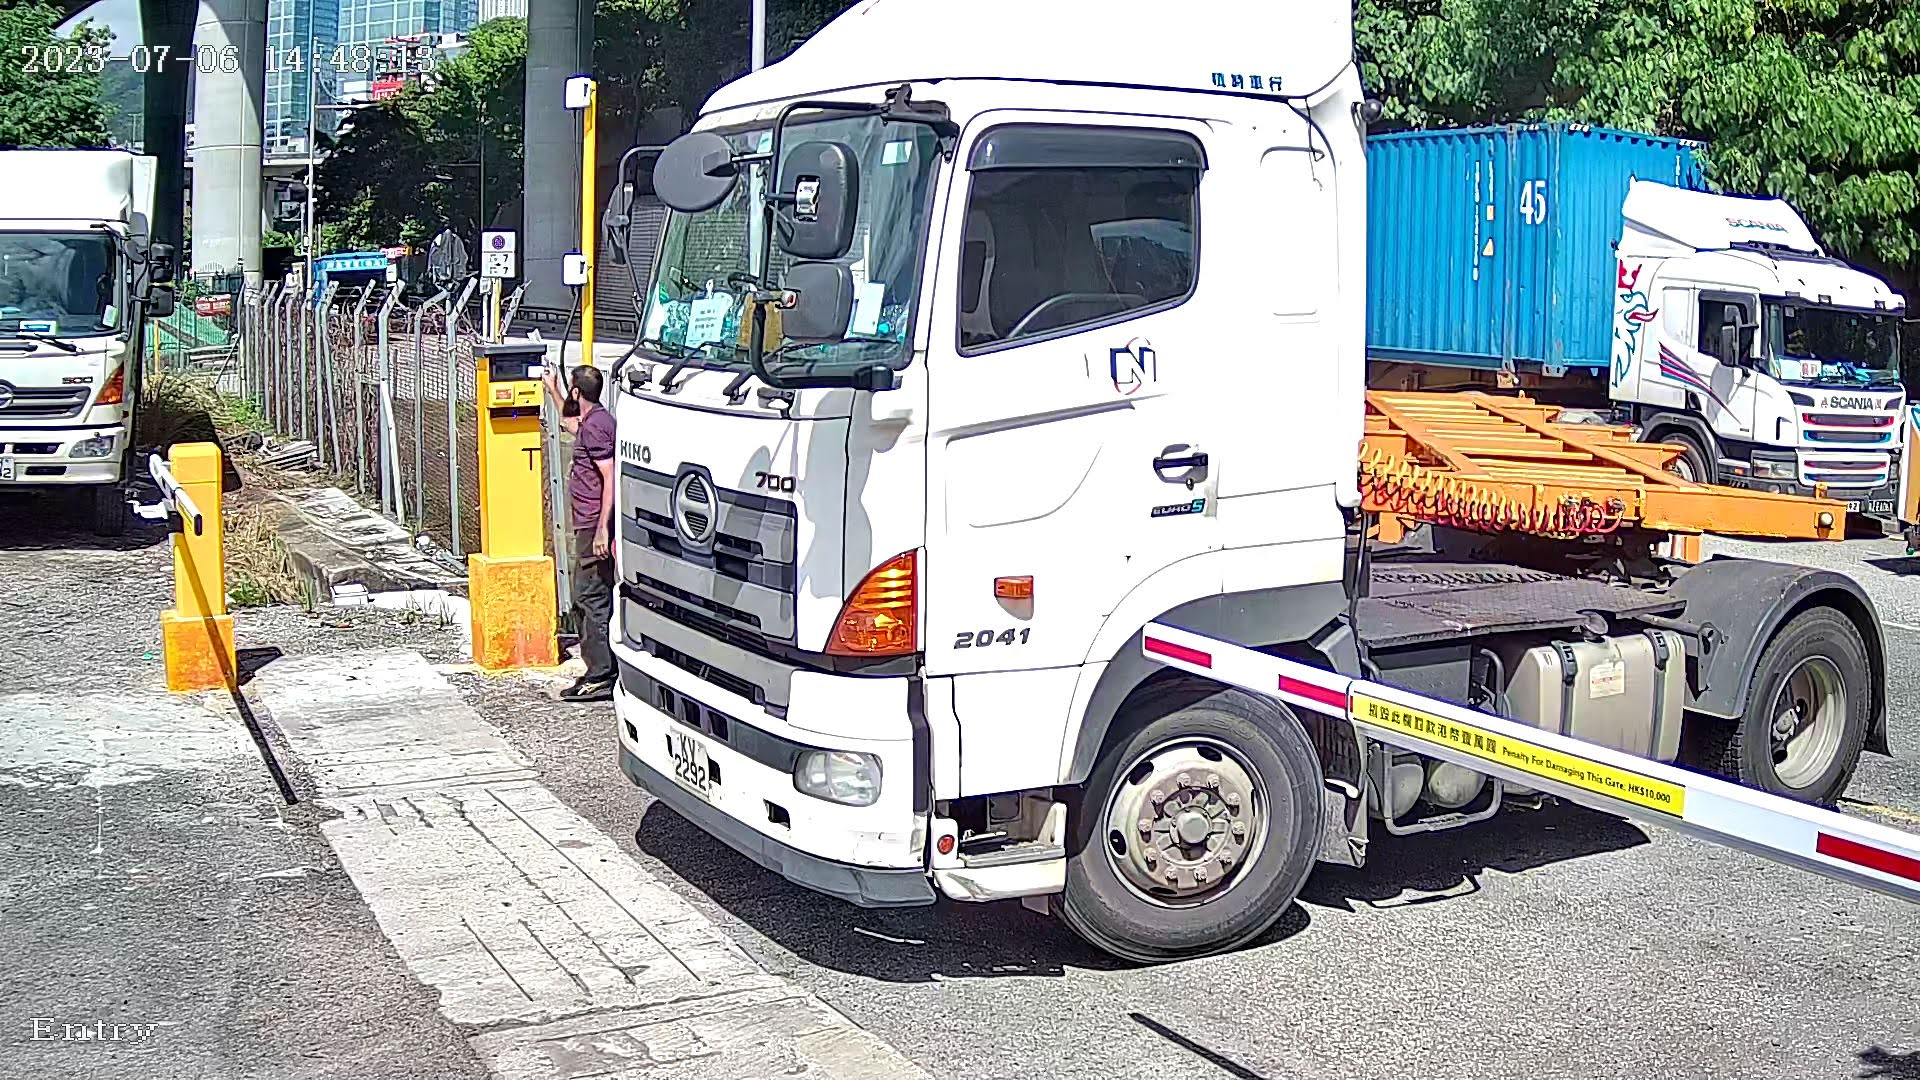truck: (539, 1, 1912, 988)
